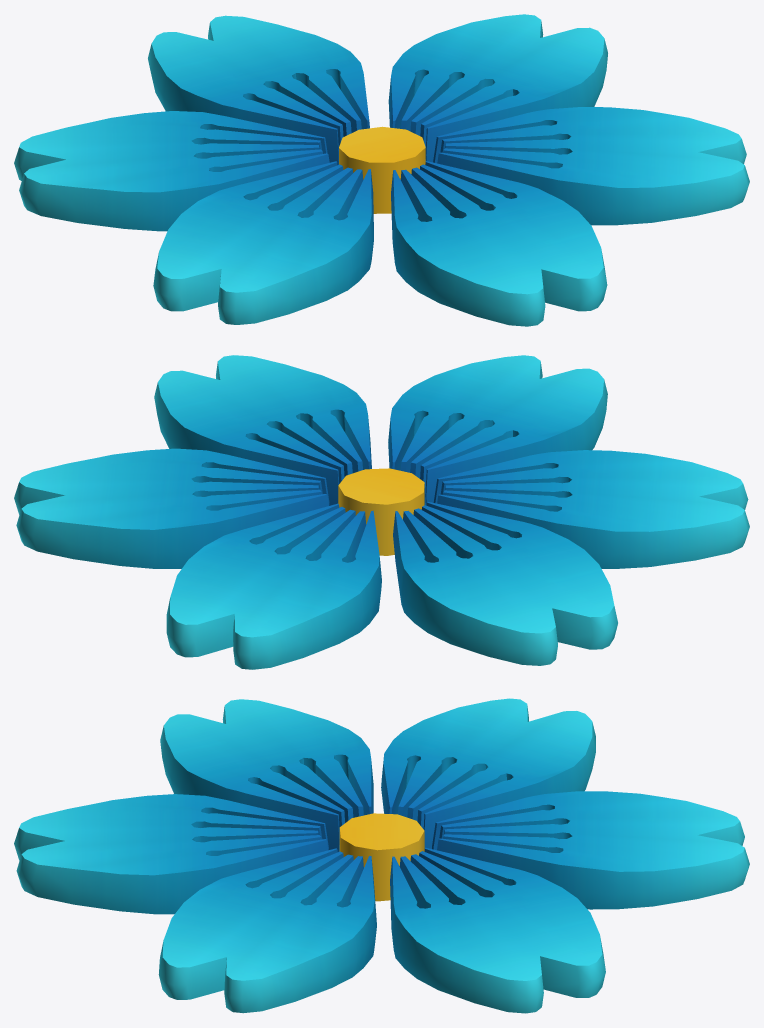
Rendered from cyan1.1.fbx.
3 views of the same model, one above another, from view 1: azimuth 30°, elevation 25°; view 2: azimuth 150°, elevation 25°; view 3: azimuth 270°, elevation 25° (orthographic).
Visible parts, largest first — view 1: Cylinder004.003; view 2: Cylinder004.003; view 3: Cylinder004.003.
Part boxes in pixels (left/top/right/bottom): Cylinder004.003: left=14, top=14, right=749, bottom=326; Cylinder004.003: left=14, top=355, right=749, bottom=669; Cylinder004.003: left=14, top=698, right=749, bottom=1013.
Bounding box in the file's own units: 29.68 × 2.47 × 32.19.
